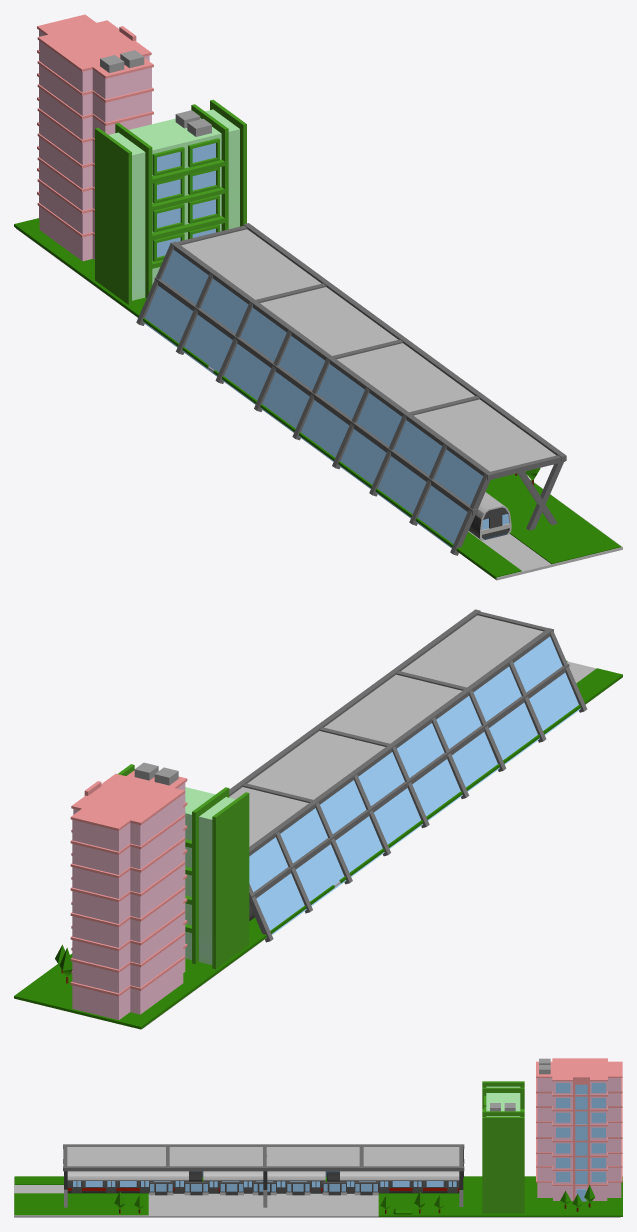
The model's file is Train Start.fbx.
3 views of the same model, one above another, from view 1: azimuth 30°, elevation 25°; view 2: azimuth 150°, elevation 25°; view 3: azimuth 270°, elevation 25° (orthographic). The views are drawn at different scales.
Visible parts, largest first — view 1: pPlane543, Building_D7, pCube1886, Building_C_Taller5, pCube1901, pCube1899, pCube1913, pCube1900, pCube1914, pCube1902, pCube1828, pCube1818; view 2: Building_C_Taller5, pPlane543, pCube1886, Building_D7, pCube1902, pCube1899, pCube1913, pCube1914, pCube1900; view 3: Building_C_Taller5, pCube1886, pCube1828, Building_D7, pCube1902, pCube1901, pCube1900, pCube1818, pCube1872, pCube1869, pCube1899, pCube1914 (+5 smaller).
Part boxes in pixels (x1=…): pPlane543: x1=143, y1=249, x2=482, y2=548; Building_D7: x1=95, y1=99, x2=246, y2=304; pCube1886: x1=181, y1=229, x2=556, y2=471; Building_C_Taller5: x1=37, y1=14, x2=153, y2=261; pCube1901: x1=485, y1=473, x2=621, y2=564; pCube1899: x1=170, y1=241, x2=493, y2=480; pCube1913: x1=154, y1=277, x2=477, y2=515; pCube1900: x1=243, y1=223, x2=566, y2=461; pCube1914: x1=213, y1=370, x2=521, y2=579; pCube1902: x1=14, y1=218, x2=208, y2=368; pCube1828: x1=16, y1=228, x2=622, y2=580; pCube1818: x1=468, y1=492, x2=511, y2=540; Building_C_Taller5: x1=70, y1=762, x2=187, y2=1019; pPlane543: x1=249, y1=636, x2=580, y2=934; pCube1886: x1=229, y1=615, x2=543, y2=846; Building_D7: x1=118, y1=764, x2=249, y2=969; pCube1902: x1=14, y1=885, x2=334, y2=1029; pCube1899: x1=249, y1=628, x2=553, y2=856; pCube1913: x1=249, y1=664, x2=569, y2=901; pCube1914: x1=339, y1=668, x2=622, y2=882; pCube1900: x1=229, y1=609, x2=480, y2=796; Building_C_Taller5: x1=536, y1=1058, x2=622, y2=1201; pCube1886: x1=67, y1=1146, x2=459, y2=1166; pCube1828: x1=14, y1=1177, x2=620, y2=1217; Building_D7: x1=482, y1=1081, x2=524, y2=1213; pCube1902: x1=378, y1=1176, x2=622, y2=1216; pCube1901: x1=14, y1=1193, x2=148, y2=1215; pCube1900: x1=63, y1=1166, x2=464, y2=1171; pCube1818: x1=67, y1=1171, x2=188, y2=1193; pCube1872: x1=340, y1=1171, x2=459, y2=1193; pCube1869: x1=203, y1=1171, x2=325, y2=1193; pCube1899: x1=63, y1=1144, x2=464, y2=1149; pCube1914: x1=14, y1=1176, x2=326, y2=1184.
Size of the model in its own units: 6.39 by 9.59 by 40.27.
Materials: 1 (1 with a texture image).
